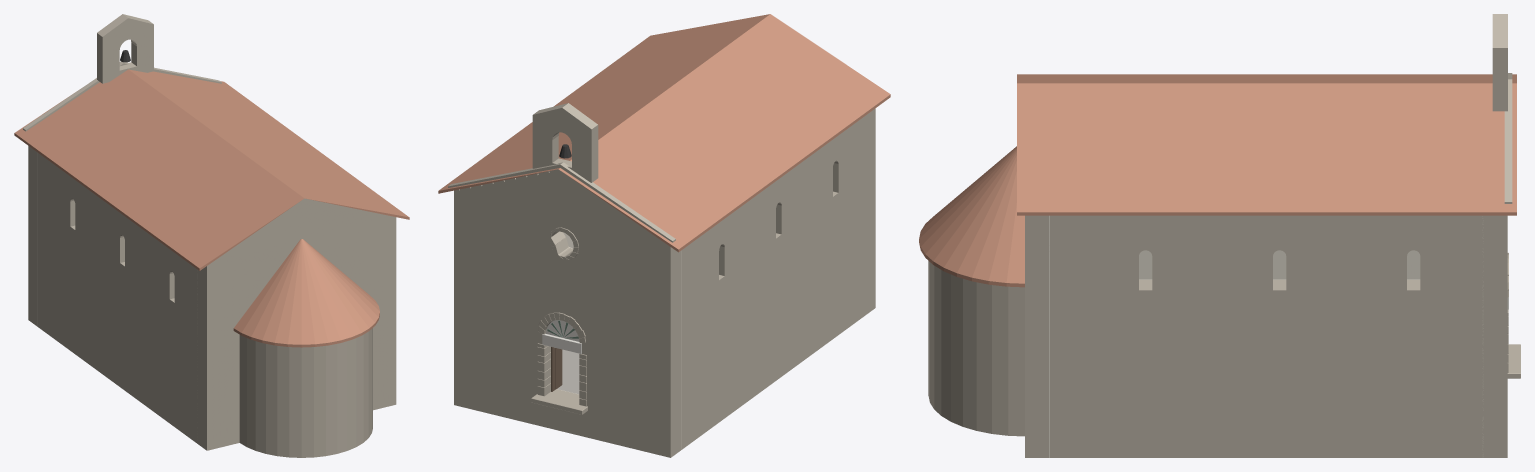
The model's file is chiesa.glb.
3 views of the same model, side by side, from view 1: azimuth 30°, elevation 25°; view 2: azimuth 150°, elevation 25°; view 3: azimuth 270°, elevation 25° (orthographic). The views are drawn at different scales.
Visible parts, largest first — view 1: chiesa; view 2: chiesa; view 3: chiesa.
Part boxes in pixels (<box>): chiesa: <box>14,14,409,457</box>; chiesa: <box>438,14,890,457</box>; chiesa: <box>919,14,1520,457</box>.
Size of the model in its own units: 12.2 by 15.71 by 22.45.
